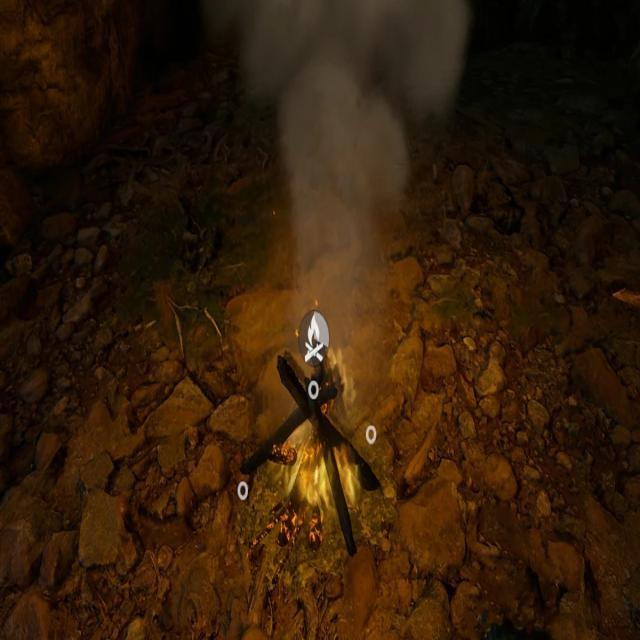Fire: (276, 428, 359, 518)
Smoke: (238, 3, 430, 297)
